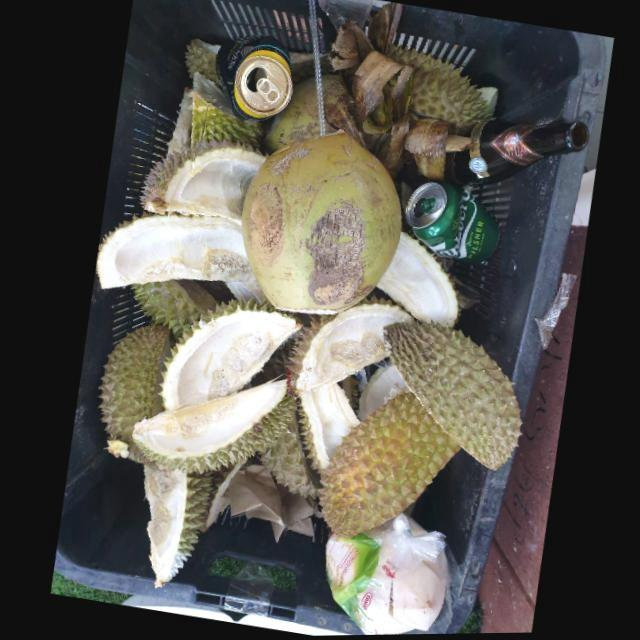aluminum: (404, 182, 498, 263), (215, 42, 292, 122)
glass_bottle: (442, 121, 588, 187)
